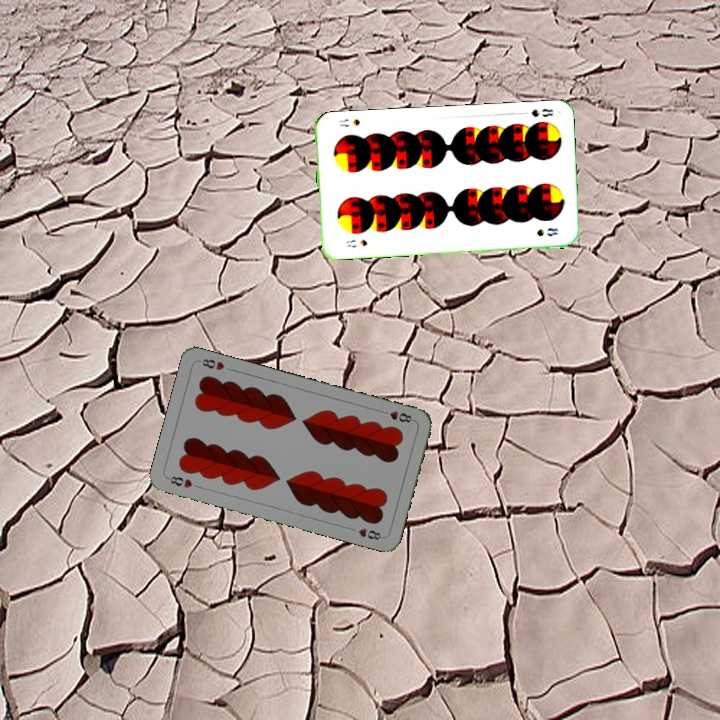H8: (377, 407, 417, 425), (163, 472, 195, 491)
S8: (517, 105, 556, 119), (342, 235, 369, 250)
